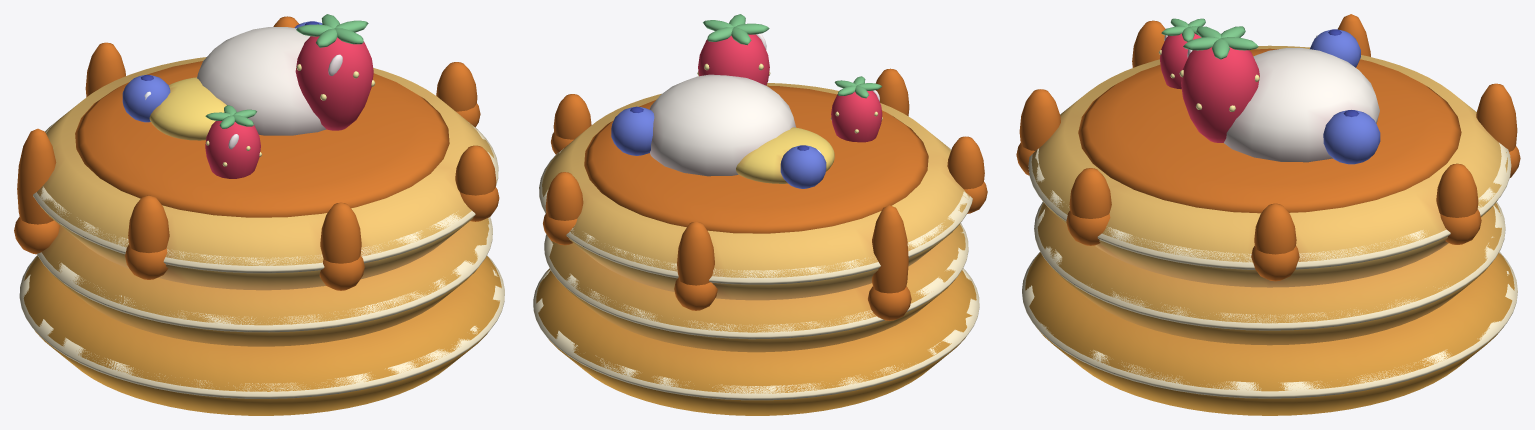
File: pancake.glb
3 renders of one model, left to right at view 1: azimuth 30°, elevation 25°; view 2: azimuth 150°, elevation 25°; view 3: azimuth 270°, elevation 25°, orthographic. The views are drawn at different scales.
Parts seen in each view (by area): view 1: gd9792b, cake_0, cake_2, cake_1, cfff2cf, cream, gf04466, butter, c7cc68a, g6c7fe0; view 2: gd9792b, cake_0, cake_2, cake_1, cfff2cf, cream, gf04466, g6c7fe0, butter, c7cc68a; view 3: gd9792b, cake_0, cake_2, cake_1, cfff2cf, cream, gf04466, g6c7fe0, c7cc68a.
Boxes of the visible parts, x1,y1,x2,y2 form: gd9792b: (14,16,499,290); cake_0: (23,256,501,415); cake_2: (37,57,493,290); cake_1: (41,218,489,346); cfff2cf: (19,119,504,398); cream: (197,27,326,135); gf04466: (205,36,373,178); butter: (149,77,226,140); c7cc68a: (205,14,368,128); g6c7fe0: (122,21,322,122); gd9792b: (543,68,987,320); cake_0: (536,269,976,415); cake_2: (542,83,969,300); cake_1: (549,224,965,352); cfff2cf: (533,146,979,400); cream: (649,74,795,176); gf04466: (698,34,882,142); g6c7fe0: (611,106,826,188); butter: (736,127,834,183); c7cc68a: (703,14,881,98); gd9792b: (1016,14,1520,281); cake_0: (1025,252,1514,415); cake_2: (1031,45,1507,287); cake_1: (1037,203,1501,345); cfff2cf: (1022,142,1517,398); cream: (1224,48,1379,162); gf04466: (1160,33,1259,142); g6c7fe0: (1310,29,1380,164); c7cc68a: (1161,18,1258,59).
Bounding box in the file's own units: 0.6188 × 0.425 × 0.6181.
